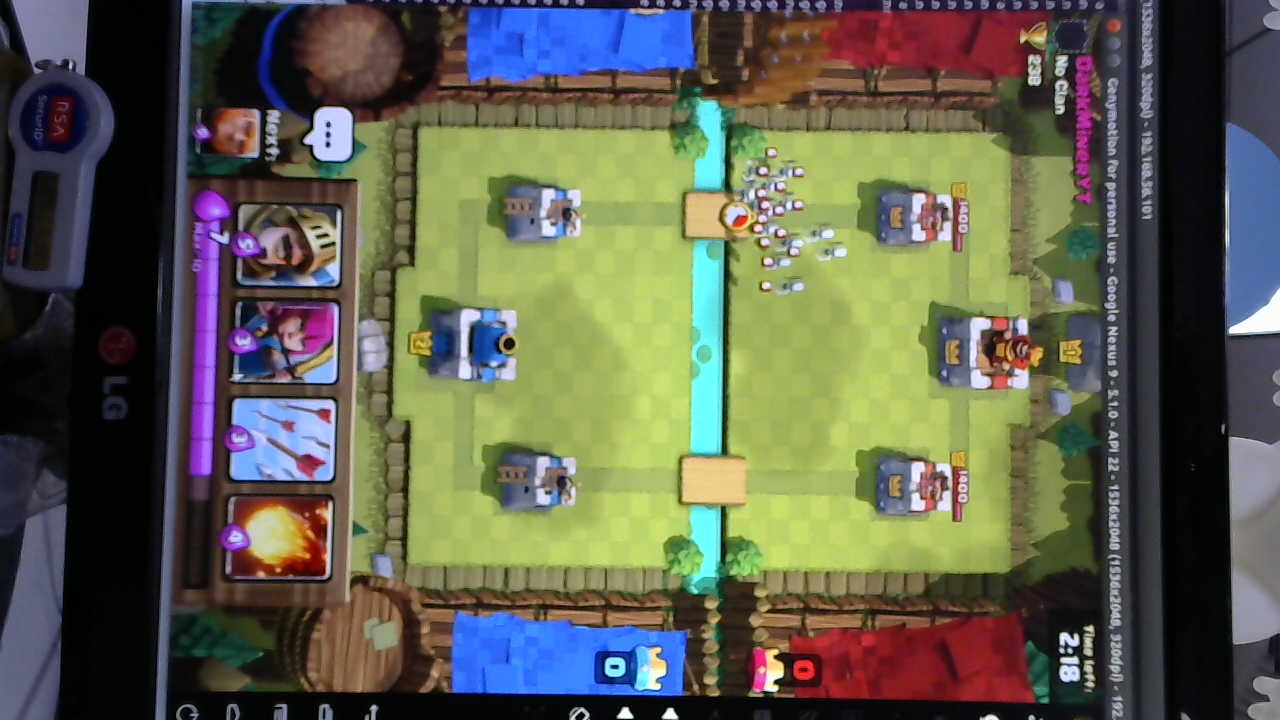skeletonarmyE: (724, 148, 843, 295)
